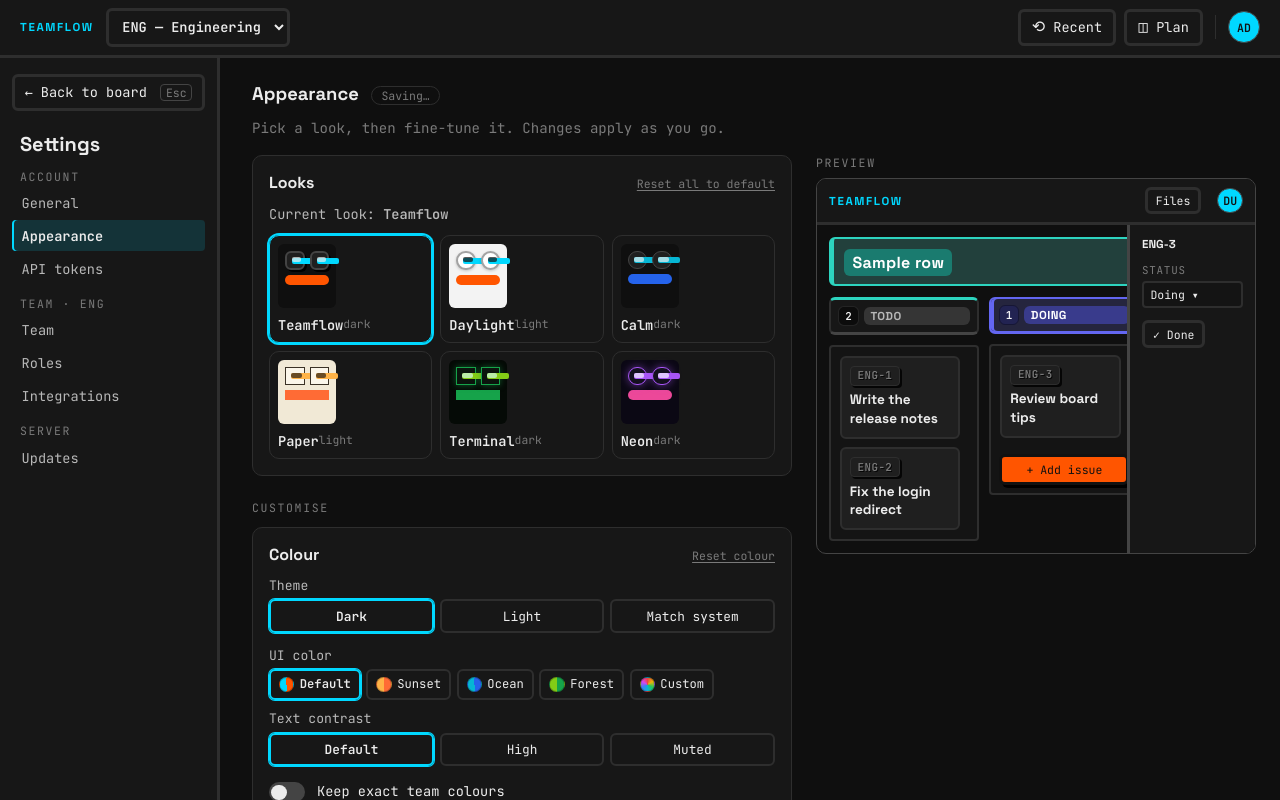
appearance panel › has board size under Appearance, not General
Expected: the dropdown named "Workspace" is enabled, [106, 8, 290, 47]
Click the button "General".
click(108, 203)  # box [12, 188, 205, 218]
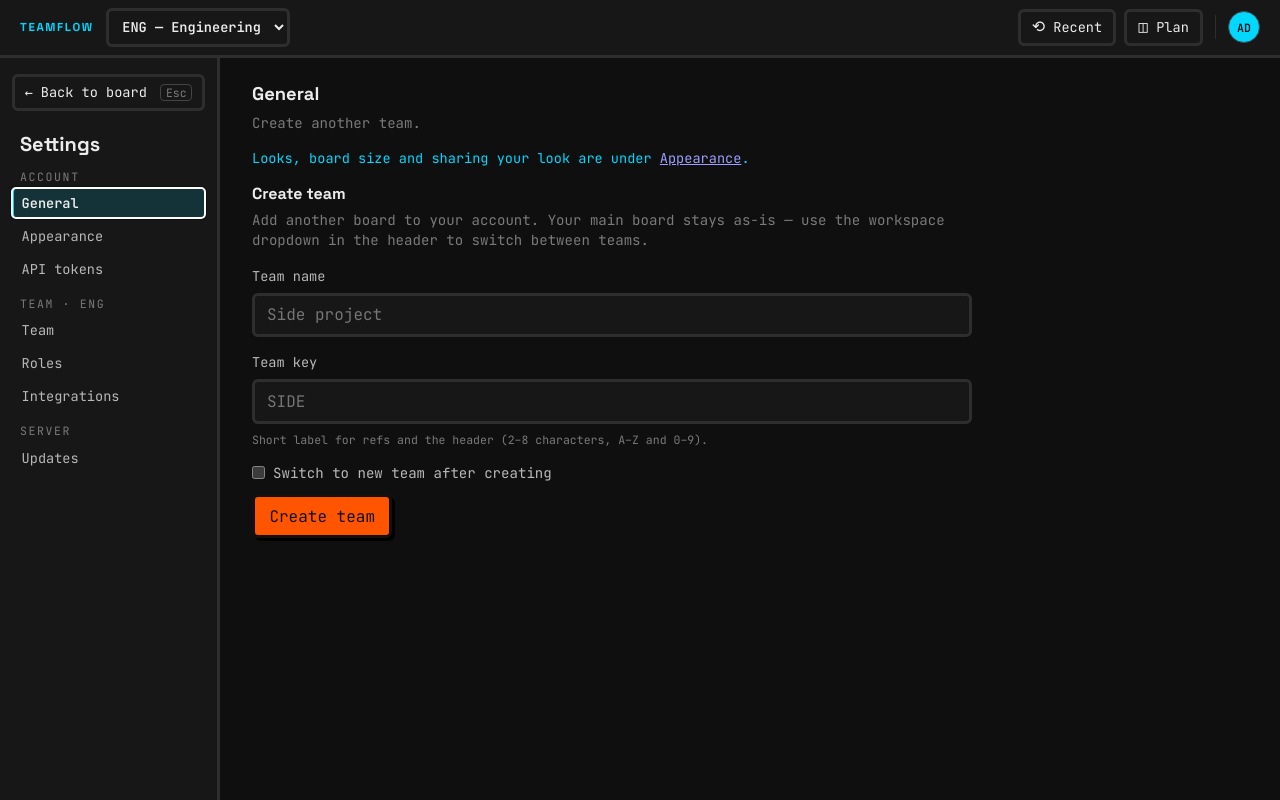
Expected: the link "Appearance" is shown, [660, 149, 741, 167]
Expected: the heading "General" is shown, [252, 82, 319, 105]
Expected: the field labelled "Team name" is shown, [252, 293, 972, 337]
